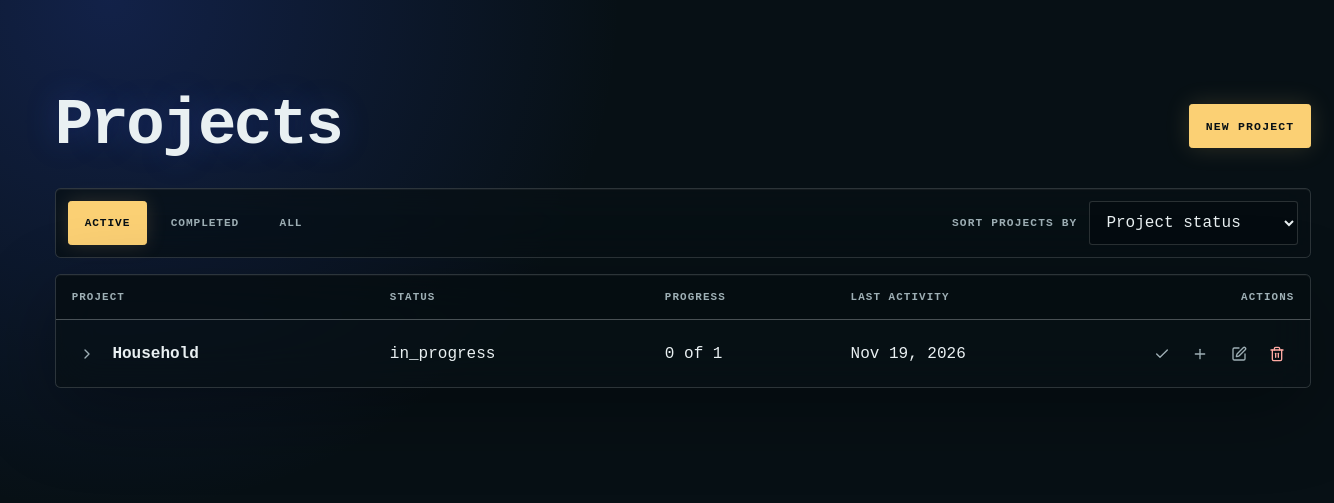
Test: DashboardPage project synchronization › reconciles a dutyy mutation through the canonical project list
Expected: the text "0 of 1" is shown, [649,320,834,387]
Click the button named "Show dutyys for Household" at (87, 354), box [72,338,102,369]
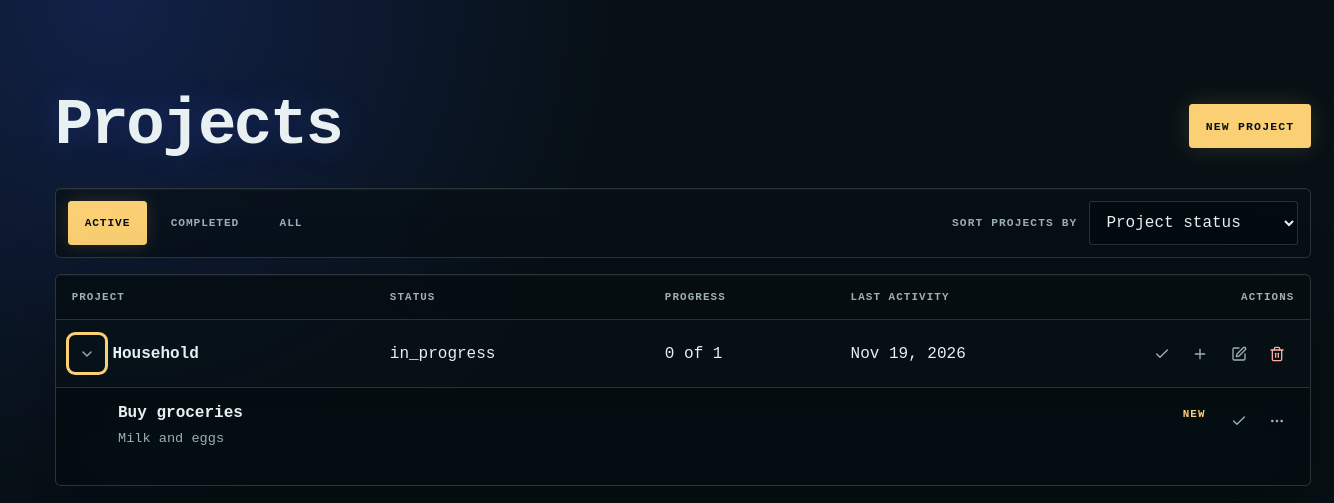
Click the button named "Complete Buy groceries" at (1239, 421), box [1222,404,1256,438]
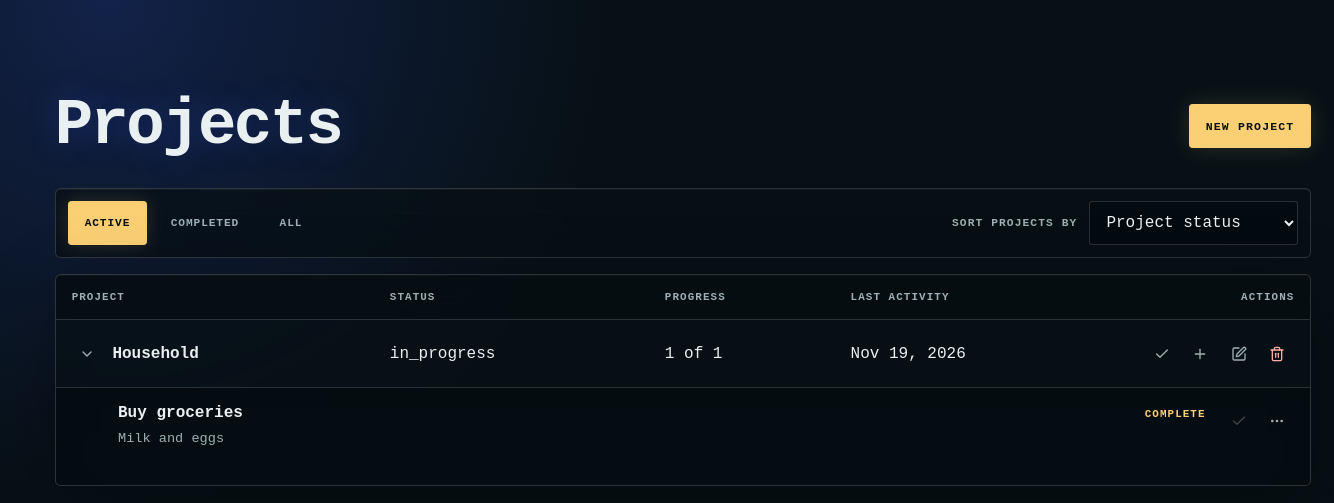
Expected: the text "1 of 1" is shown, [649,320,834,387]
Expected: the text "complete" is shown, [1145,408,1206,420]
